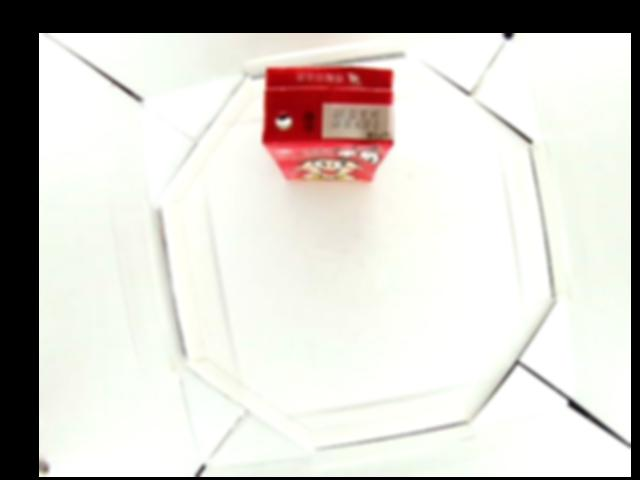Bottle: (264, 64, 396, 182)
